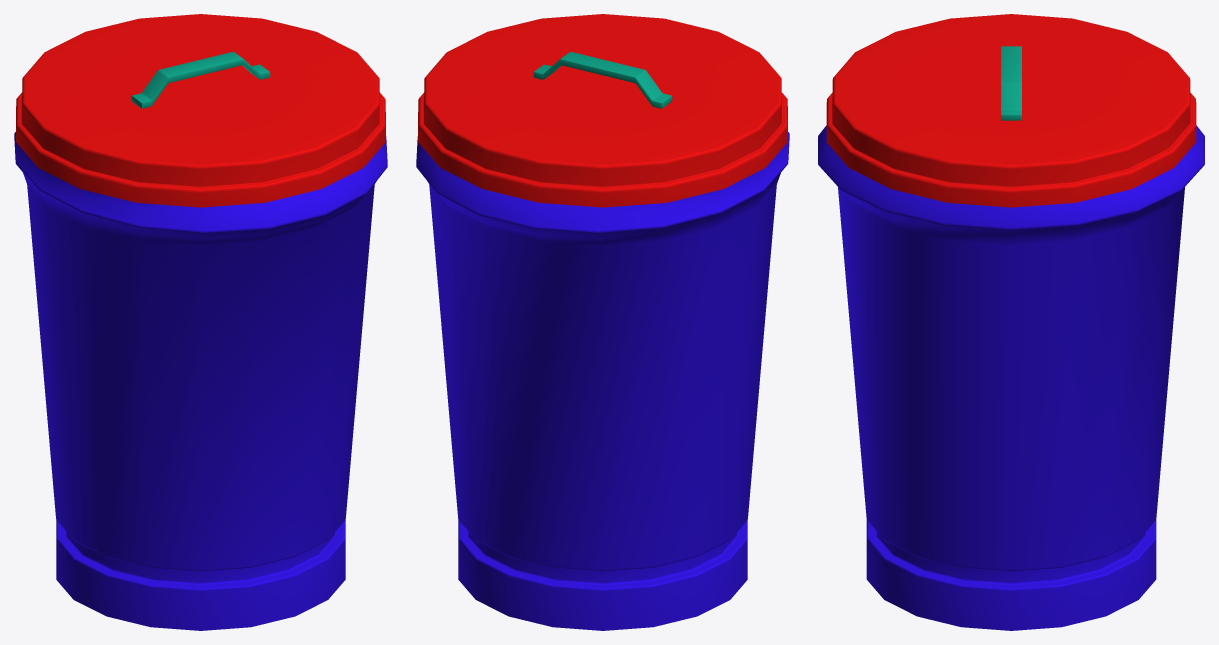
Rendered from LP_Trash.fbx.
The picture shows the model from 3 angles, left to right: view 1: azimuth 30°, elevation 25°; view 2: azimuth 150°, elevation 25°; view 3: azimuth 270°, elevation 25°; orthographic projection.
Parts seen in each view (by area): view 1: LP_Trash_Can, LP_Lid, LP_Handle; view 2: LP_Trash_Can, LP_Lid, LP_Handle; view 3: LP_Trash_Can, LP_Lid, LP_Handle.
Boxes of the visible parts, x1=… form: LP_Trash_Can: x1=14, y1=132, x2=387, y2=630; LP_Lid: x1=16, y1=14, x2=385, y2=207; LP_Handle: x1=131, y1=52, x2=270, y2=108; LP_Trash_Can: x1=416, y1=132, x2=789, y2=630; LP_Lid: x1=418, y1=14, x2=787, y2=207; LP_Handle: x1=533, y1=52, x2=672, y2=108; LP_Trash_Can: x1=818, y1=125, x2=1204, y2=630; LP_Lid: x1=826, y1=14, x2=1196, y2=207; LP_Handle: x1=1001, y1=46, x2=1021, y2=120.
Size of the model in its own units: 32.88 by 48.72 by 33.85.
